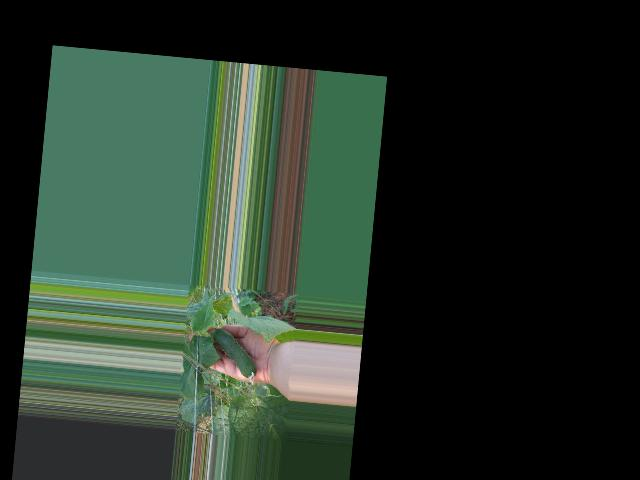cucumber: (208, 328, 260, 386)
